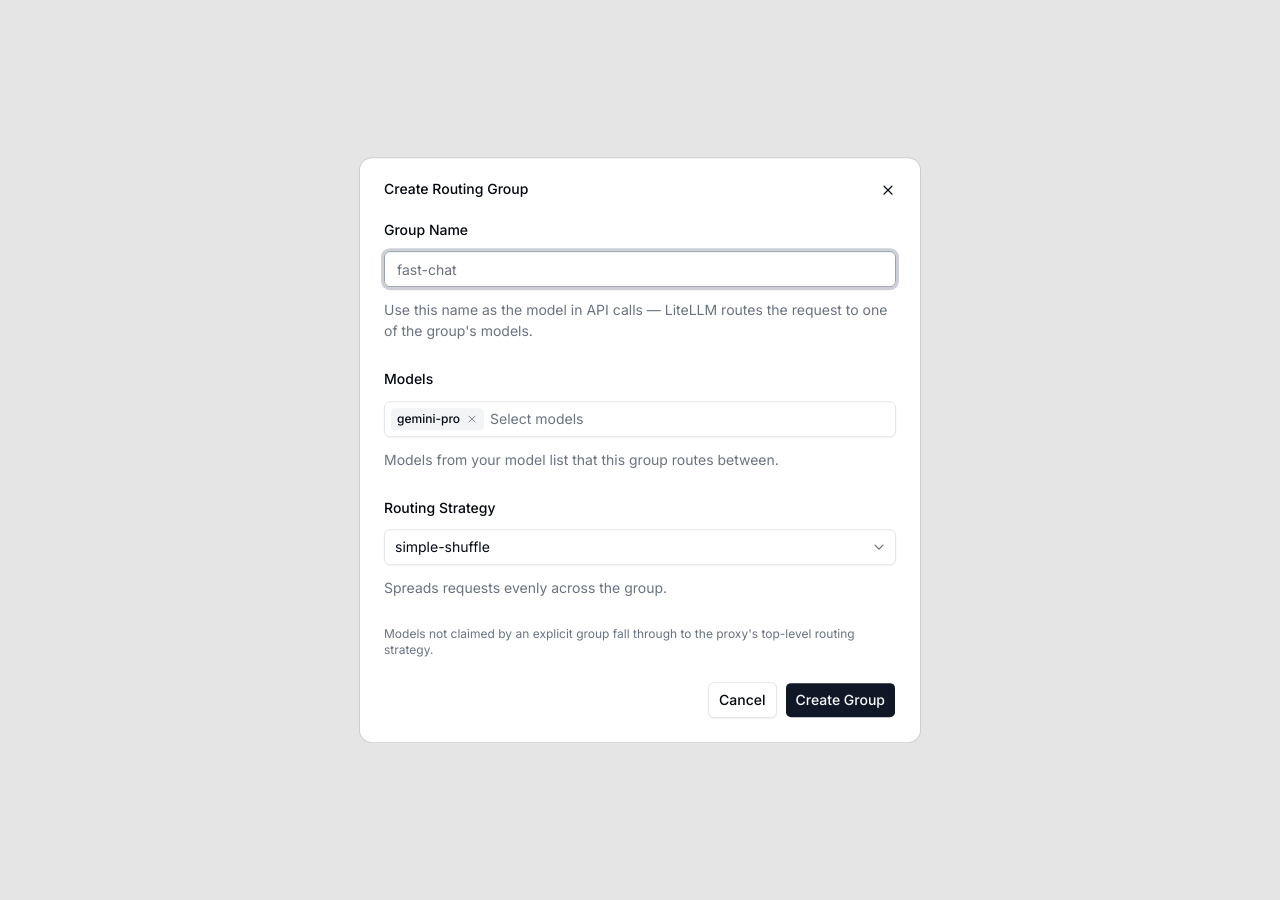
Test: RoutingGroupModal › requires a group name
Click the button "Create Group" at x=840, y=700, box top-left (784, 682), bottom-right (896, 718)
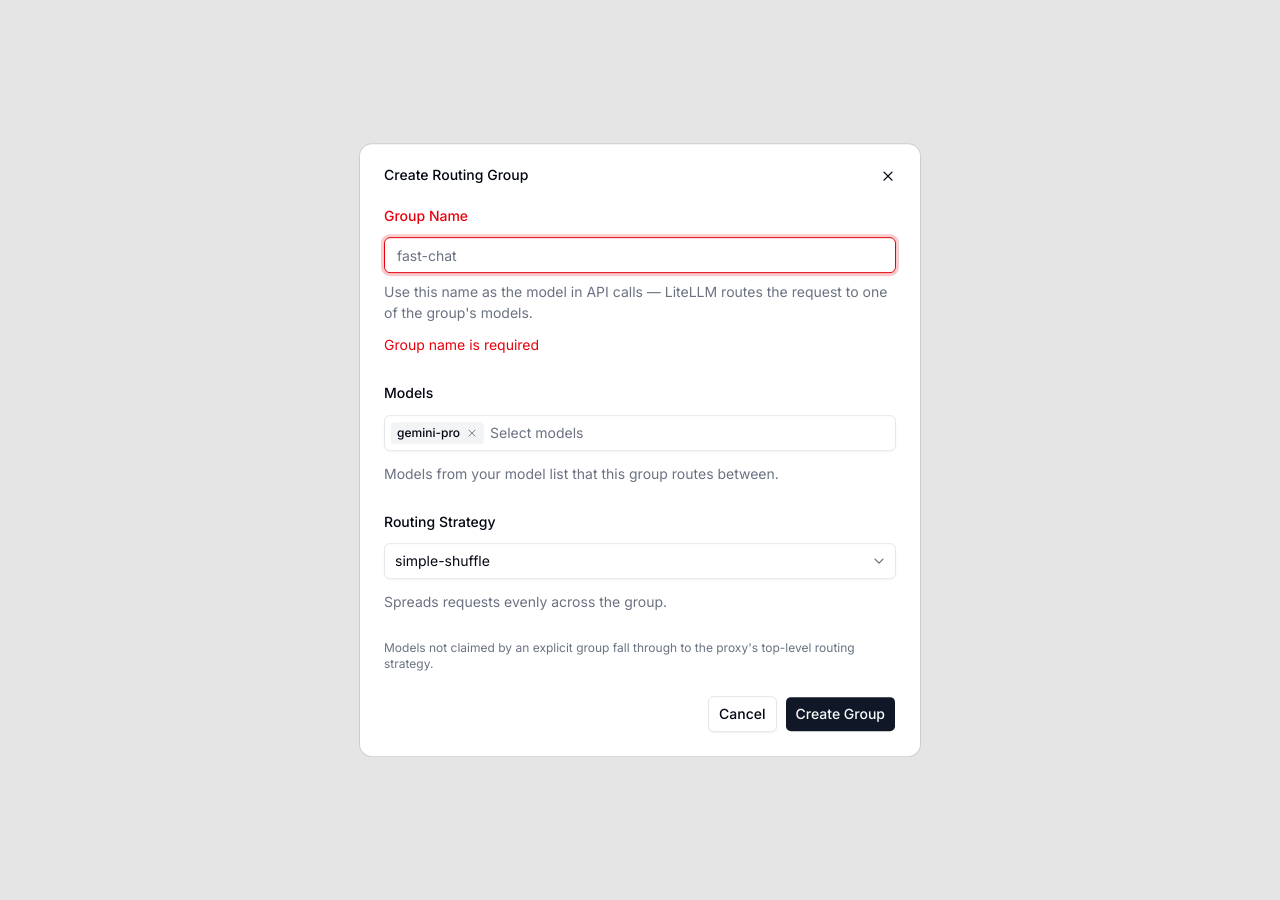
Expected: the text "Group name is required" is shown, top-left (384, 336), bottom-right (539, 353)
